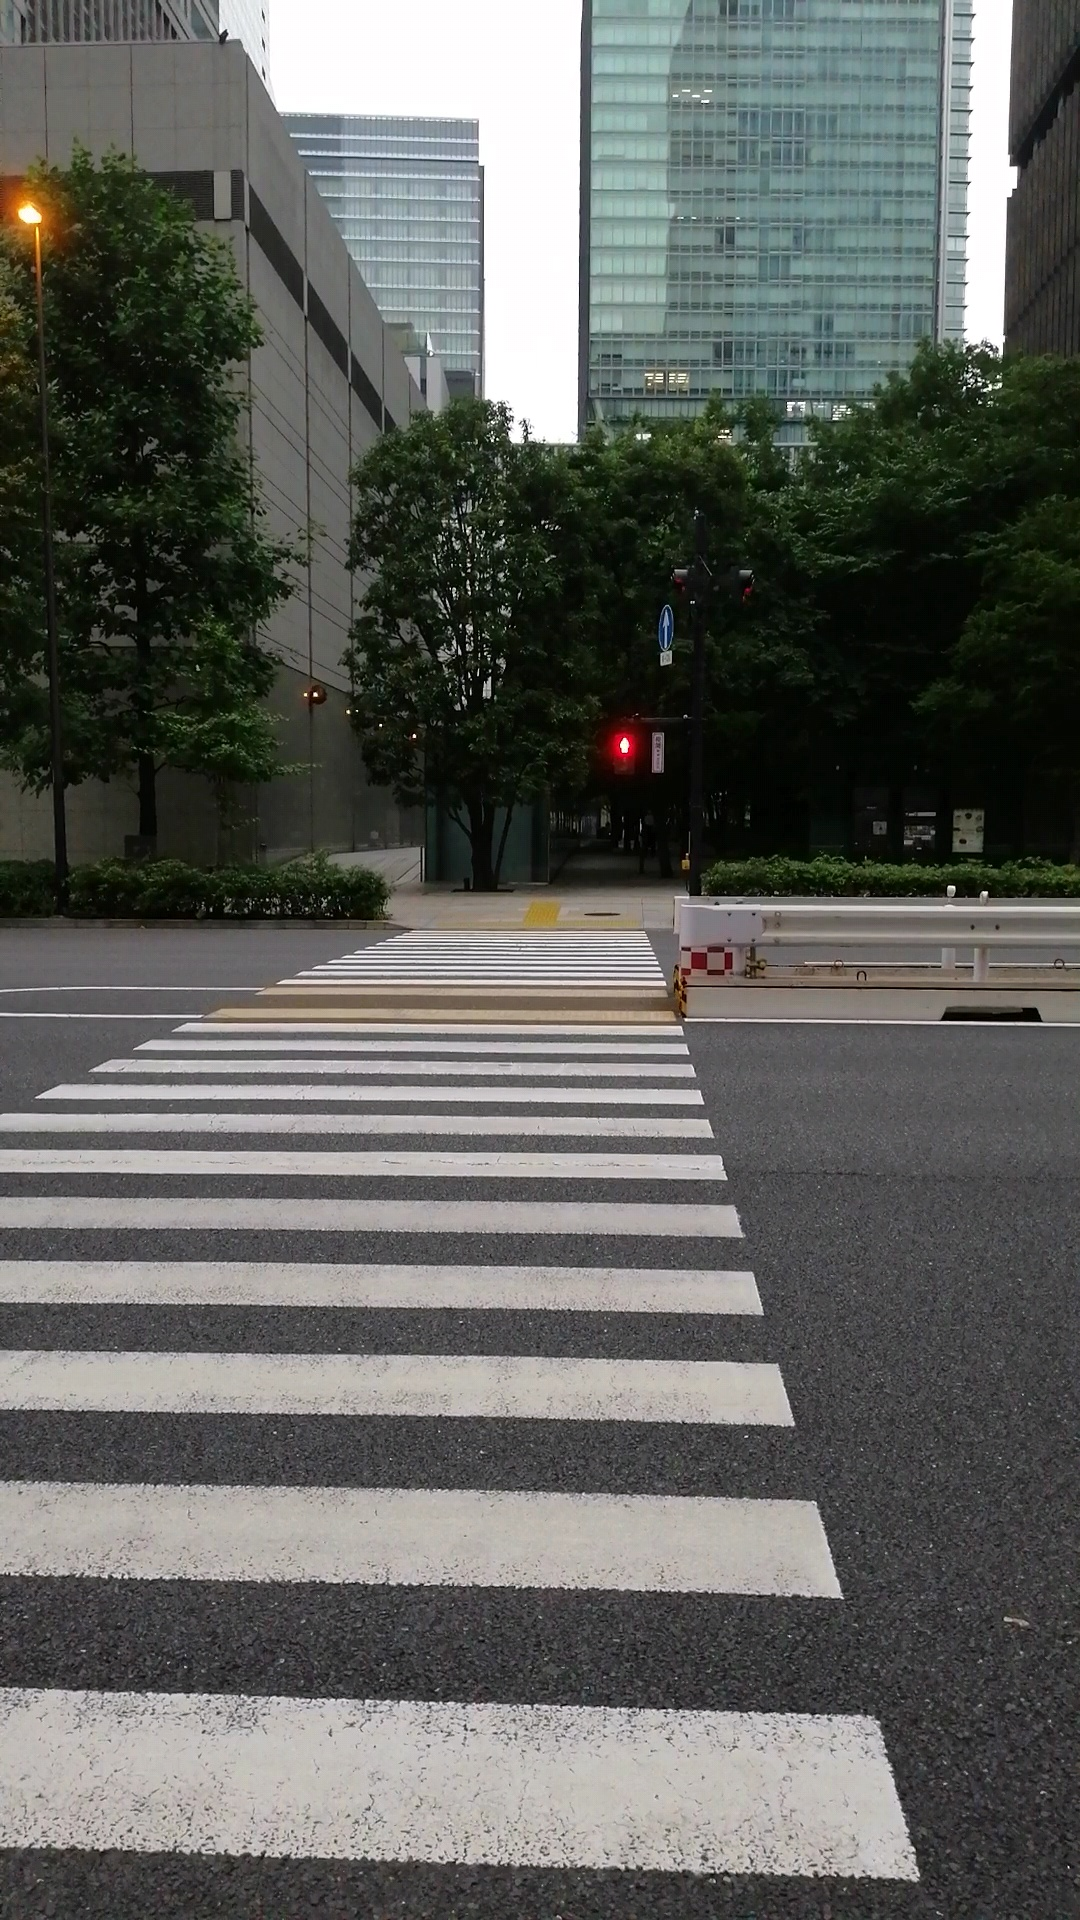red: (608, 727, 640, 781)
